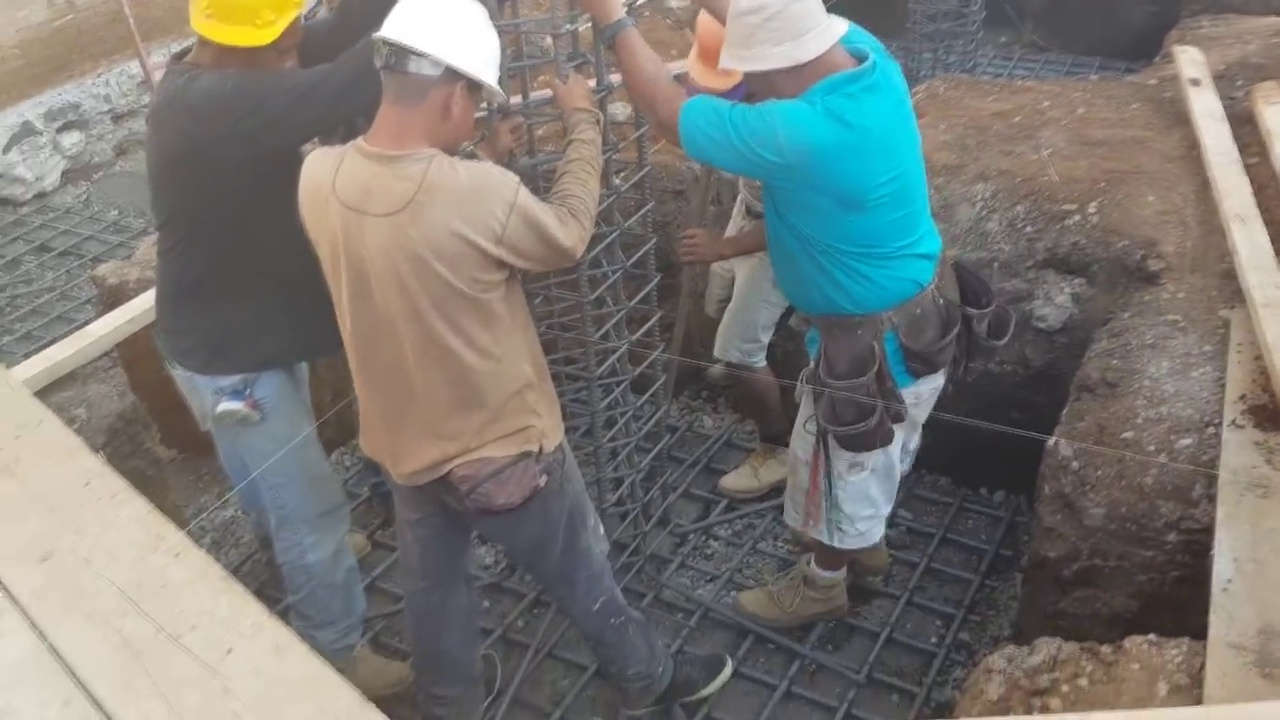helmet: (369, 2, 507, 100), (186, 2, 308, 48), (687, 13, 744, 96)
helmet-off: (694, 4, 864, 110)
helmet-on: (356, 0, 509, 168), (174, 0, 324, 80), (685, 10, 753, 127)
person: (298, 1, 727, 718), (139, 0, 421, 698), (643, 0, 945, 628), (686, 10, 797, 462)
